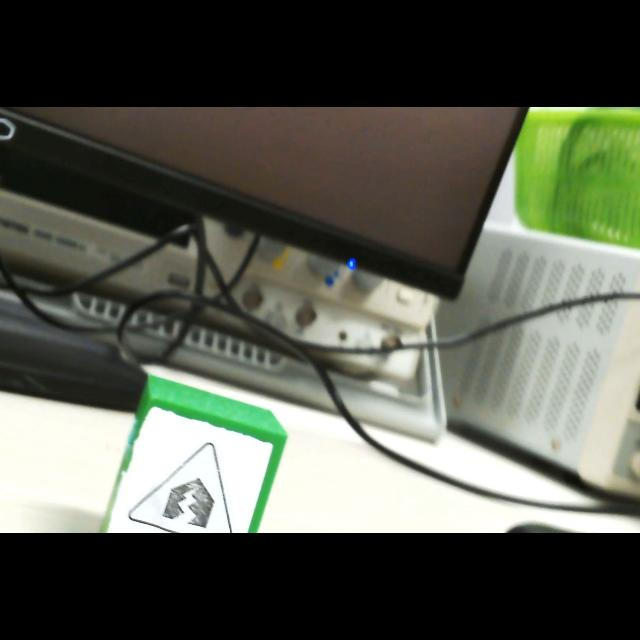Earthquake: (127, 442, 231, 532), (128, 443, 231, 533)
